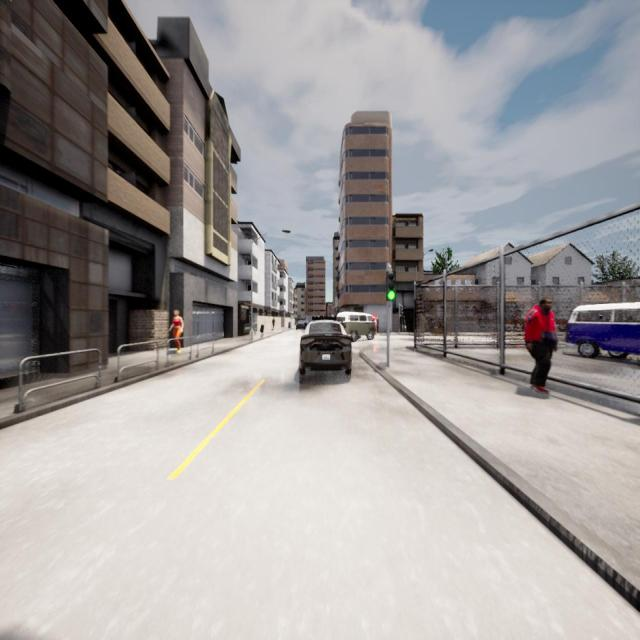Pedestrian: (524, 297, 556, 393), (169, 310, 183, 354), (401, 313, 406, 333), (272, 316, 275, 331)
Vehicle: (565, 305, 640, 360), (300, 321, 351, 375), (337, 312, 376, 340), (296, 320, 306, 330)
traffic_light: (386, 272, 396, 300), (400, 306, 403, 314)
